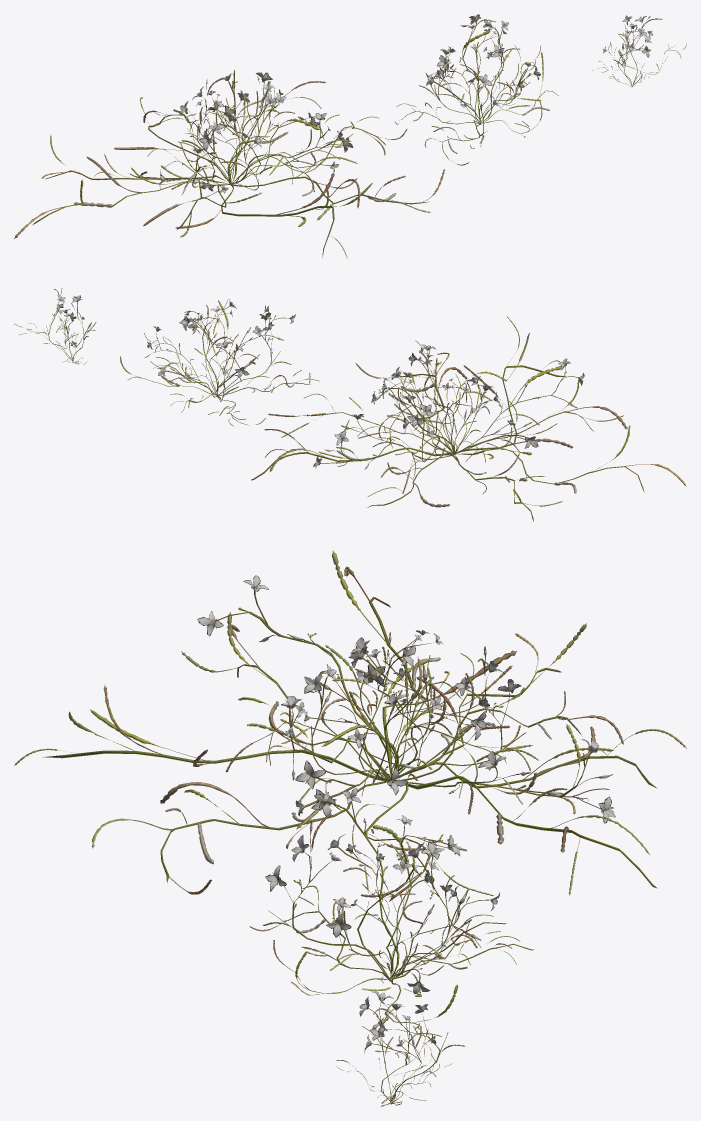
File: flower_heliophila.glb
3 views of the same model, one above another, from view 1: azimuth 30°, elevation 25°; view 2: azimuth 150°, elevation 25°; view 3: azimuth 270°, elevation 25° (orthographic). The views are drawn at different scales.
Visible parts, largest first — view 1: flower_heliophila_large; view 2: flower_heliophila_large; view 3: flower_heliophila_large.
Part boxes in pixels (bbox=[...]): flower_heliophila_large: bbox=[14, 14, 686, 258]; flower_heliophila_large: bbox=[14, 288, 686, 521]; flower_heliophila_large: bbox=[14, 550, 686, 1106].
Bounding box in the file's own units: 2.75 × 0.3993 × 1.42.
Materials: 1 (1 with a texture image).
